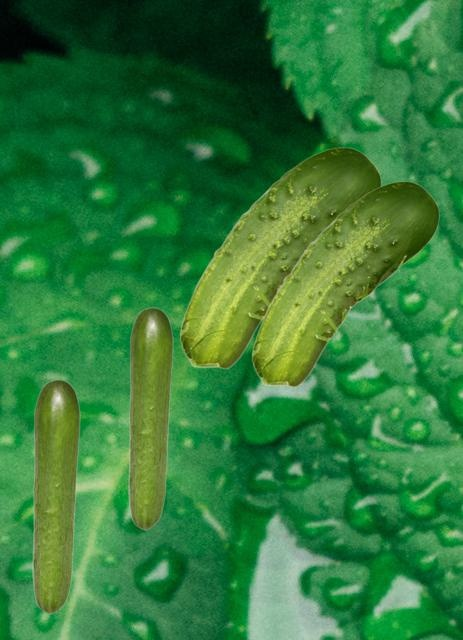cucumber: (179, 147, 380, 368), (251, 181, 438, 386), (32, 379, 79, 613), (128, 307, 172, 529)
